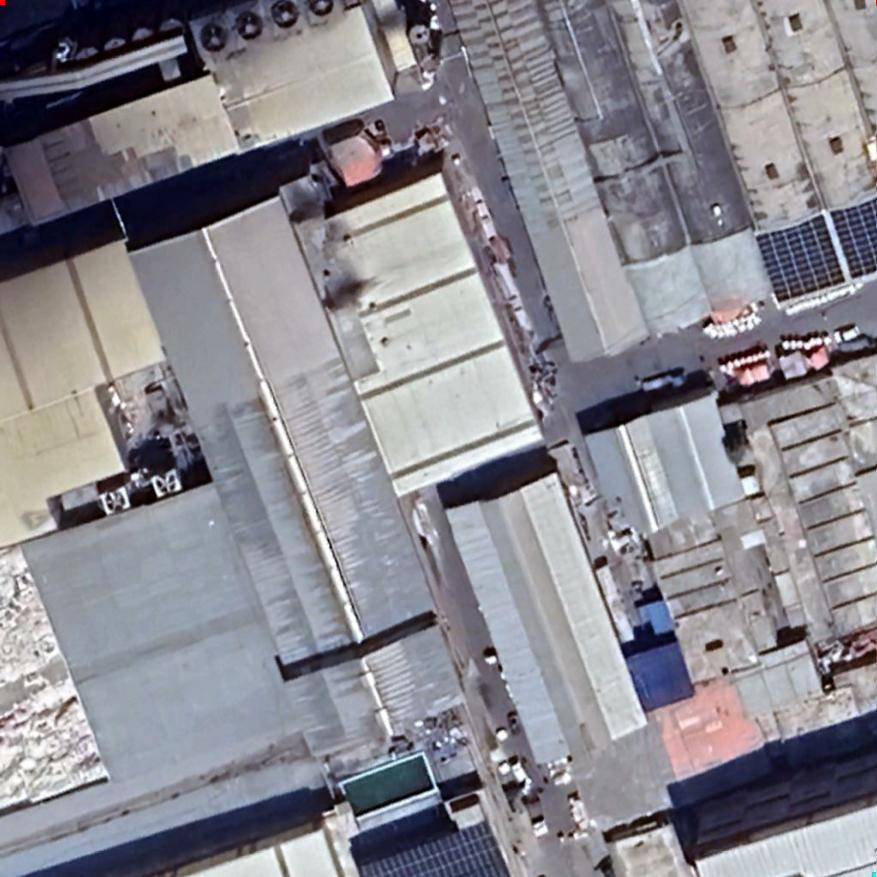Solarpanel: (353, 813, 517, 876), (748, 210, 848, 307), (824, 198, 876, 287)
